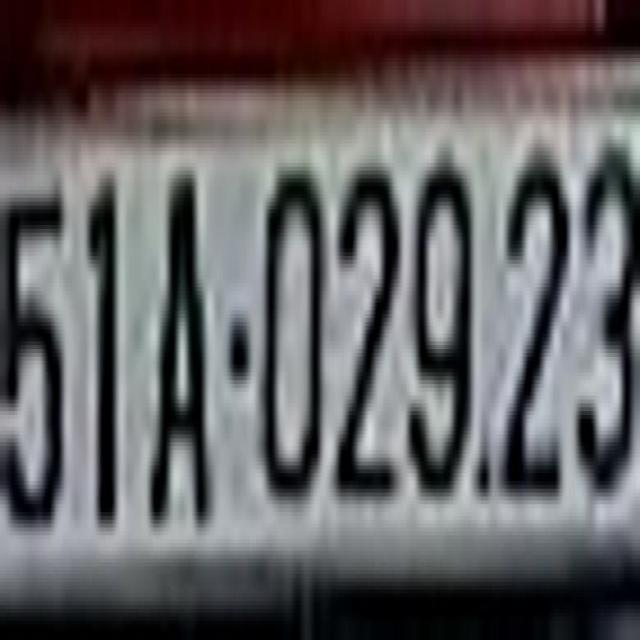0: (260, 124, 323, 524)
1: (82, 151, 131, 547)
2: (500, 97, 568, 539), (332, 120, 400, 528)
3: (576, 85, 638, 528)
5: (3, 128, 68, 559)
9: (404, 93, 472, 528)
A: (150, 116, 211, 558)
